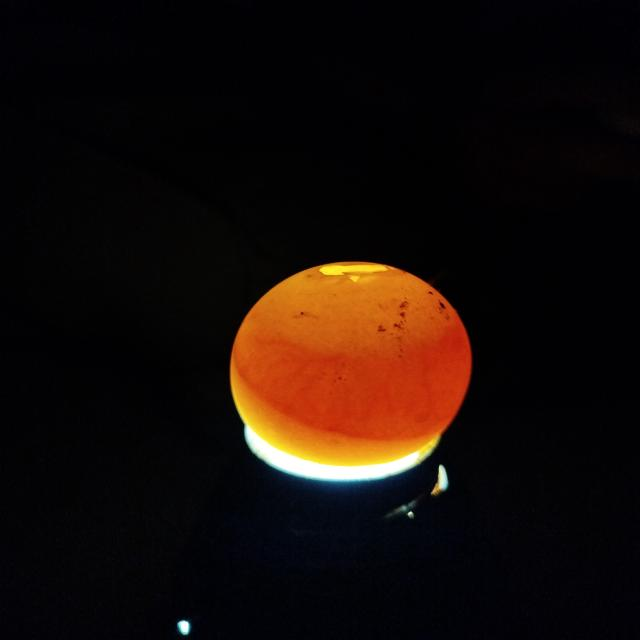Gema Quebrada: (232, 325, 472, 440)
